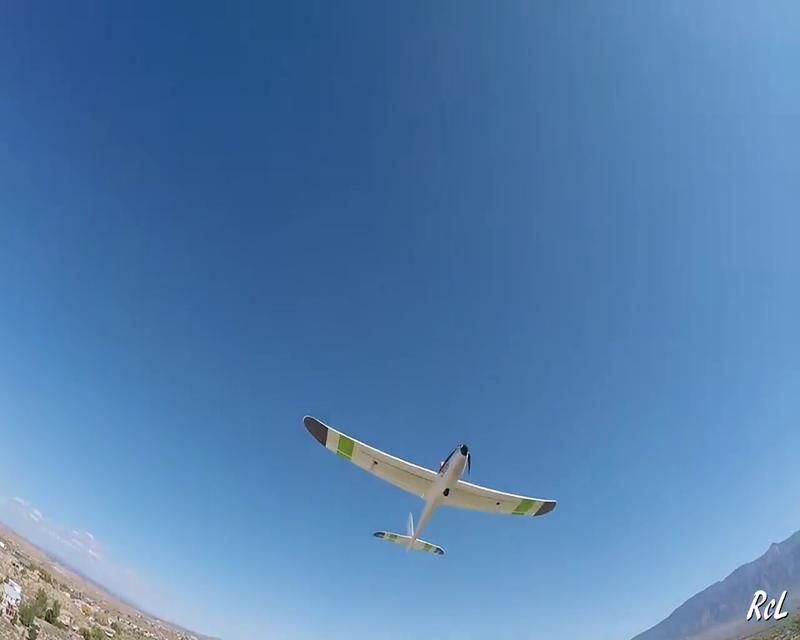UAV: (301, 413, 557, 556)
